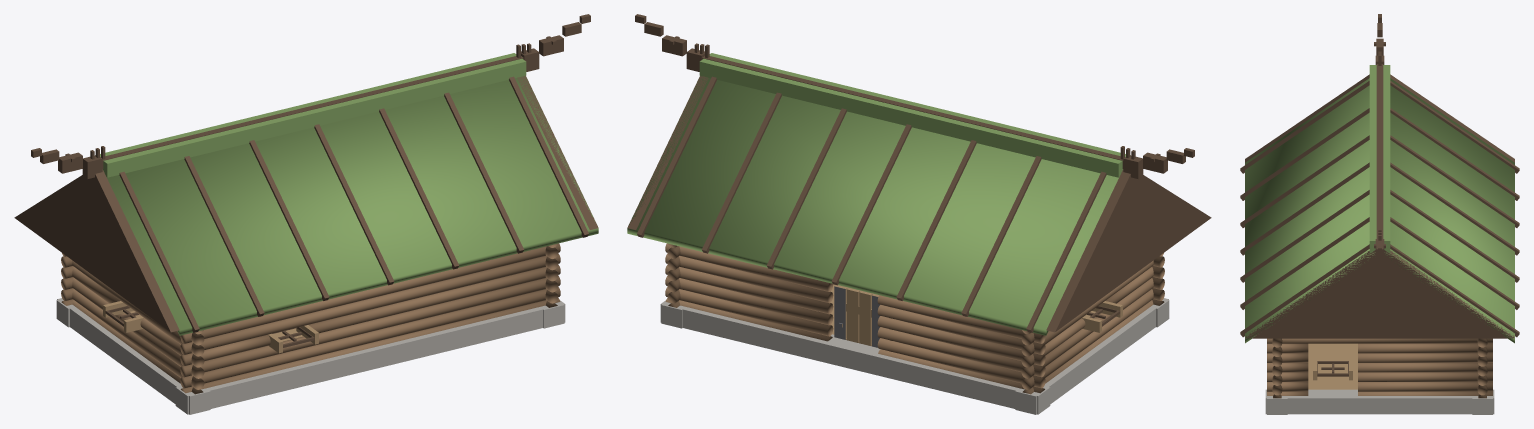
File: house_walkable.glb
3 renders of one model, left to right at view 1: azimuth 30°, elevation 25°; view 2: azimuth 150°, elevation 25°; view 3: azimuth 270°, elevation 25°, orthographic. The views are drawn at different scales.
Visible parts, largest first — view 1: Top_Roof_Left, Base_Wall_Back, Base_Foundation, Top_Gable_West, Top_Ridge_Cap, Base_Wall_Left, Top_Beam_Ridge, Top_Gable_East, Top_DragonHead_West, Top_DragonHead_East, Top_Rafter_L0, Top_Rafter_L6 (+7 smaller); view 2: Top_Roof_Right, Base_Wall_Front, Base_Foundation, Top_Gable_West, Top_Ridge_Cap, Base_Wall_Left, Base_Door, Top_Beam_Ridge, Top_Gable_East, Top_DragonHead_West, Top_DragonHead_East, Top_Rafter_R0 (+8 smaller); view 3: Top_Roof_Right, Top_Roof_Left, Top_Gable_East, Base_Wall_Right, Base_Foundation, Top_Ridge_Cap, Base_Floor, Top_Beam_Ridge, Top_Gable_West, Top_Rafter_L1, Top_Rafter_L5, Top_Rafter_R1 (+16 smaller).
Part boxes in pixels (<box>): Top_Roof_Left: <box>107,76,598,335</box>; Base_Wall_Back: <box>180,243,560,393</box>; Base_Foundation: <box>56,298,565,414</box>; Top_Gable_West: <box>14,169,179,332</box>; Top_Ridge_Cap: <box>100,53,526,177</box>; Base_Wall_Left: <box>63,256,204,394</box>; Top_Beam_Ridge: <box>102,56,523,168</box>; Top_Gable_East: <box>517,75,598,229</box>; Top_DragonHead_West: <box>31,146,105,178</box>; Top_DragonHead_East: <box>516,14,590,71</box>; Top_Rafter_L0: <box>119,171,199,332</box>; Top_Rafter_L6: <box>509,76,588,237</box>; Top_Roof_Right: <box>627,76,1118,335</box>; Base_Wall_Front: <box>665,243,1045,393</box>; Base_Foundation: <box>660,298,1169,414</box>; Top_Gable_West: <box>1046,169,1211,332</box>; Top_Ridge_Cap: <box>699,53,1125,177</box>; Base_Wall_Left: <box>1021,256,1162,394</box>; Base_Door: <box>834,285,880,347</box>; Top_Beam_Ridge: <box>702,56,1123,168</box>; Top_Gable_East: <box>627,75,708,229</box>; Top_DragonHead_West: <box>1120,146,1194,178</box>; Top_DragonHead_East: <box>635,14,709,71</box>; Top_Rafter_R0: <box>1026,171,1106,332</box>; Top_Roof_Right: <box>1384,78,1514,343</box>; Top_Roof_Left: <box>1245,78,1375,343</box>; Top_Gable_East: <box>1245,250,1514,338</box>; Base_Wall_Right: <box>1267,338,1492,395</box>; Base_Foundation: <box>1265,389,1494,414</box>; Top_Ridge_Cap: <box>1369,65,1390,252</box>; Base_Floor: <box>1308,343,1357,389</box>; Top_Beam_Ridge: <box>1376,64,1383,238</box>; Top_Gable_West: <box>1245,74,1514,162</box>; Top_Rafter_L1: <box>1240,108,1369,200</box>; Top_Rafter_L5: <box>1240,217,1369,309</box>; Top_Rafter_R1: <box>1390,108,1519,200</box>.
Bounding box in the file's own units: 18.9 × 7.71 × 9.54.
